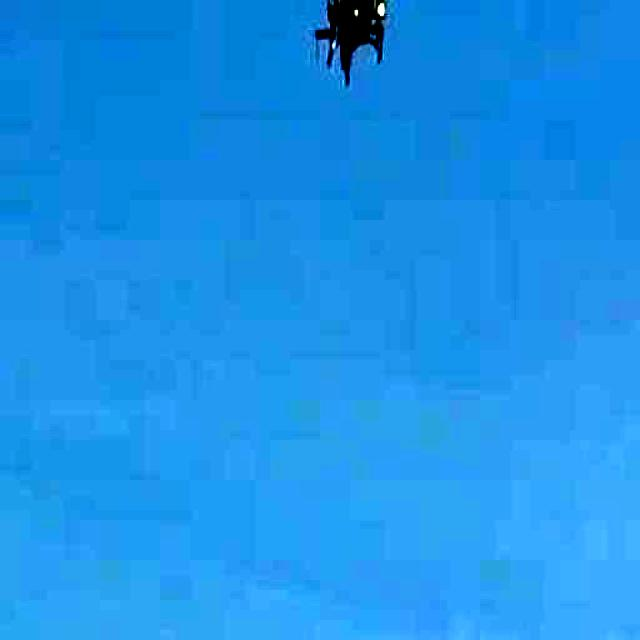drone: (298, 0, 411, 75)
